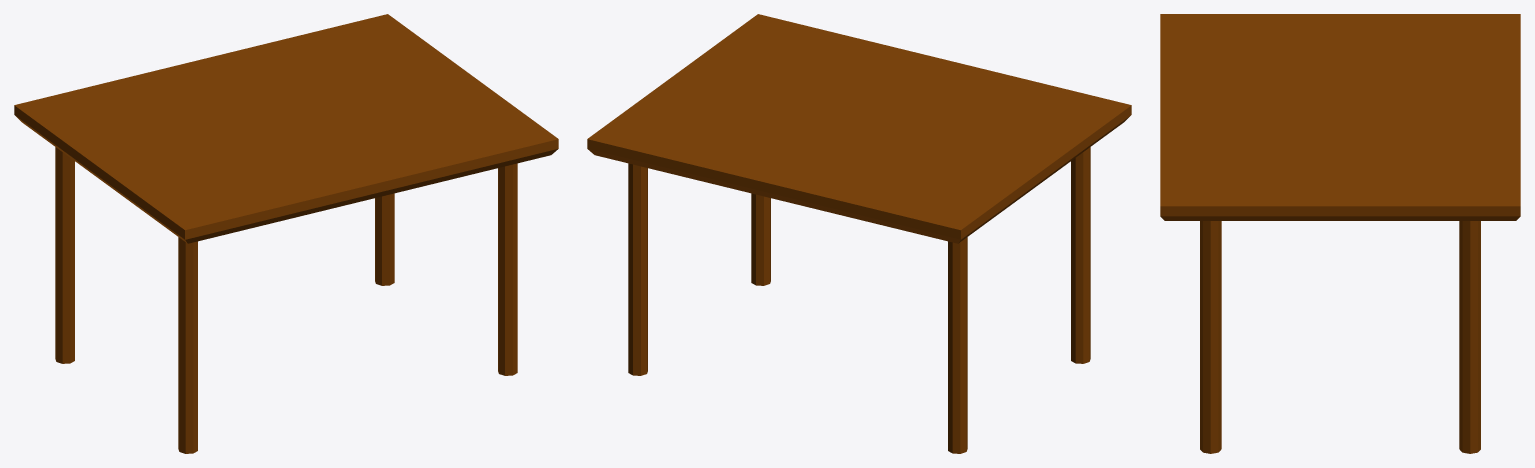
File: Table.fbx
The picture shows the model from 3 angles, left to right: view 1: azimuth 30°, elevation 25°; view 2: azimuth 150°, elevation 25°; view 3: azimuth 270°, elevation 25°; orthographic projection. The views are drawn at different scales.
Visible parts, largest first — view 1: Table; view 2: Table; view 3: Table.
Part boxes in pixels (x1,y1,x2,y2): Table: [14, 14, 558, 453]; Table: [587, 14, 1131, 453]; Table: [1160, 14, 1520, 453].
Bounding box in the file's own units: 175 × 109 × 139.
